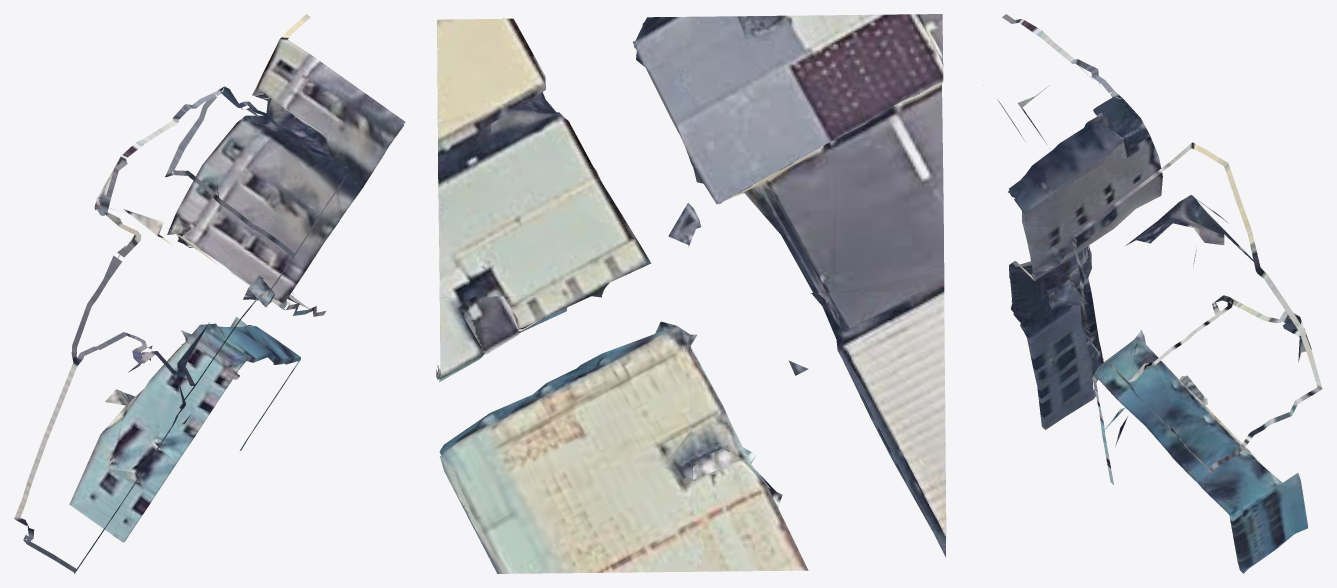
The picture shows the model from 3 angles, left to right: view 1: azimuth 30°, elevation 25°; view 2: azimuth 150°, elevation 25°; view 3: azimuth 270°, elevation 25°; orthographic projection. The views are drawn at different scales.
Bounding box in the file's own units: 36.96 × 40.37 × 28.33.
Materials: 1 (1 with a texture image).
